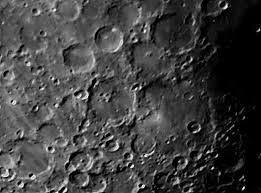crater: (150, 13, 199, 56), (60, 41, 98, 77), (90, 25, 128, 54), (129, 132, 163, 159), (51, 1, 82, 24), (182, 116, 205, 137), (182, 88, 196, 103), (45, 145, 57, 156)
